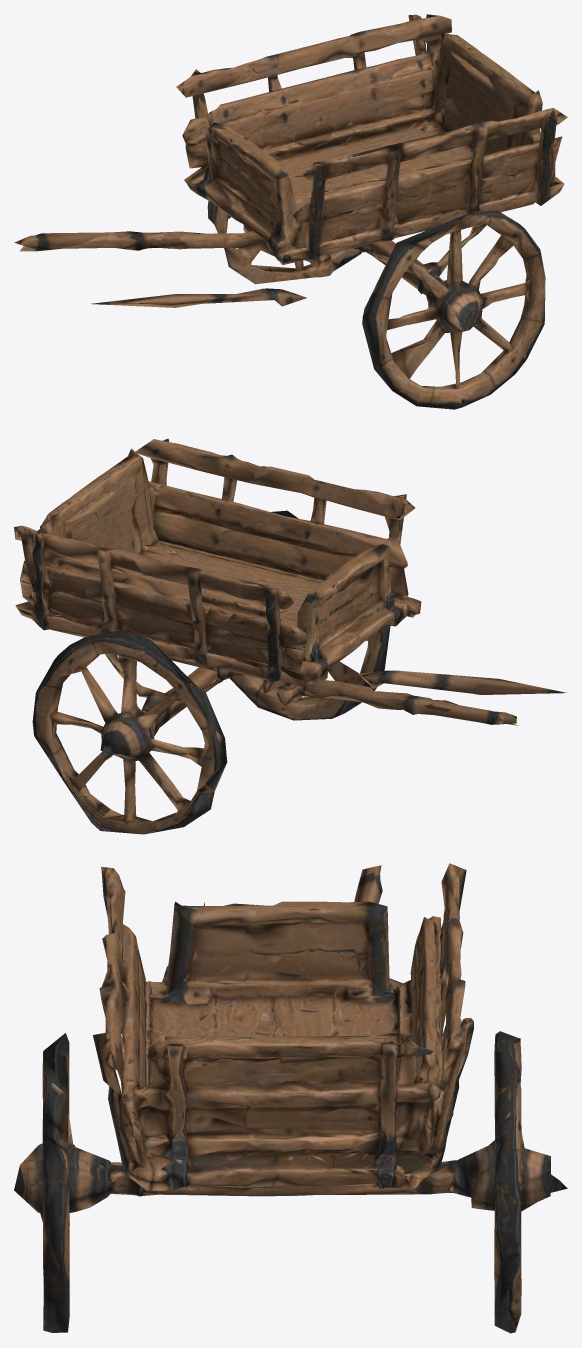
Rendered from carreta.glb.
3 renders of one model, top to bottom at view 1: azimuth 30°, elevation 25°; view 2: azimuth 150°, elevation 25°; view 3: azimuth 270°, elevation 25°, orthographic. The views are drawn at different scales.
Size of the model in its own units: 1.87 by 0.9981 by 1.35.
Materials: 1 (1 with a texture image).
